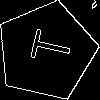T: (21, 26, 73, 66)
